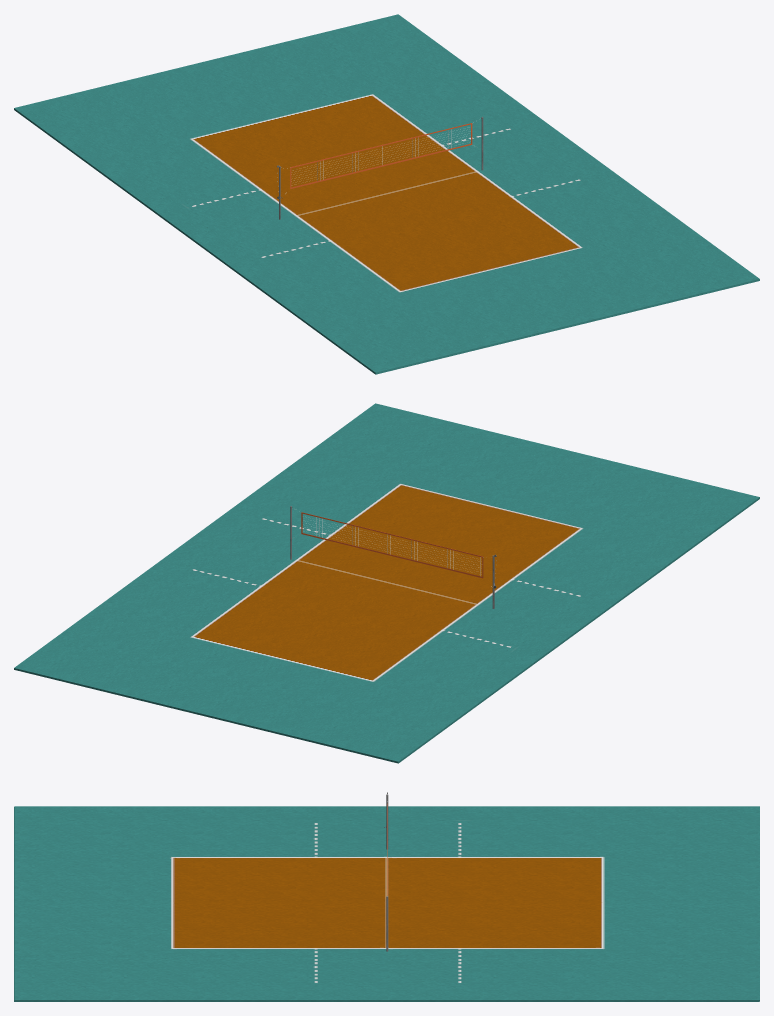
Rendered from arena.gltf.
3 renders of one model, top to bottom at view 1: azimuth 30°, elevation 25°; view 2: azimuth 150°, elevation 25°; view 3: azimuth 270°, elevation 25°, orthographic. The views are drawn at different scales.
Visible parts, largest first — view 1: Volleyball, Volleyball_Net; view 2: Volleyball, Volleyball_Net; view 3: Volleyball, Volleyball_Net.
Part boxes in pixels (<box>): Volleyball: <box>14,14,759,374</box>; Volleyball_Net: <box>277,116,483,219</box>; Volleyball: <box>14,403,759,763</box>; Volleyball_Net: <box>290,506,496,608</box>; Volleyball: <box>14,806,759,1001</box>; Volleyball_Net: <box>386,792,388,951</box>.
Bounding box in the file's own units: 19.02 × 2.66 × 30.99.
3 materials, 3 textured.
